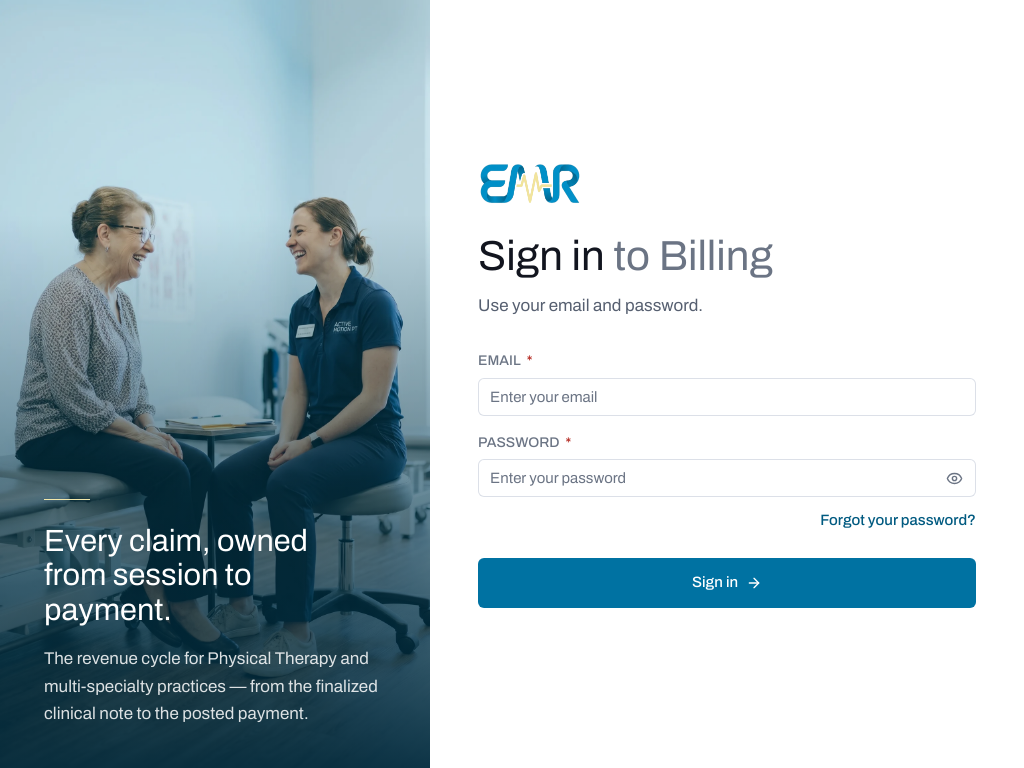
sign-in page › asks for both fields before sending anything, starting with the first
Click the button "Sign in". click: {"x": 727, "y": 583}
box: [478,558,976,608]
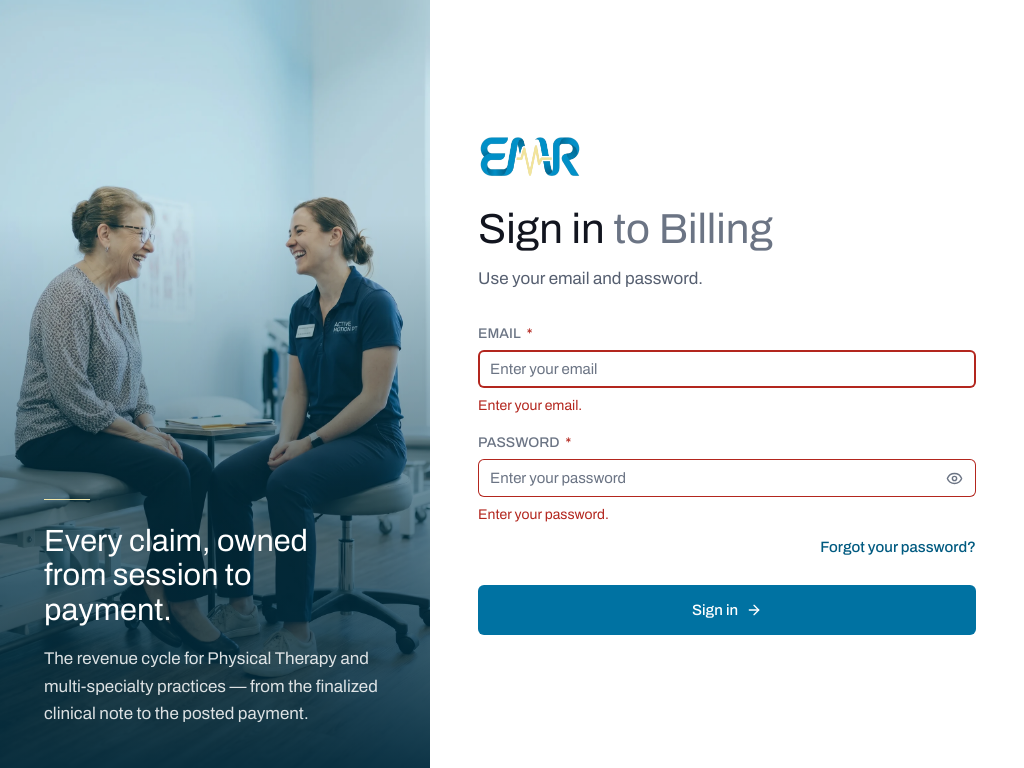
Now the text "Enter your email." is shown, box [478,398,582,413]
Now the text "Enter your password." is shown, box [478,507,609,522]
